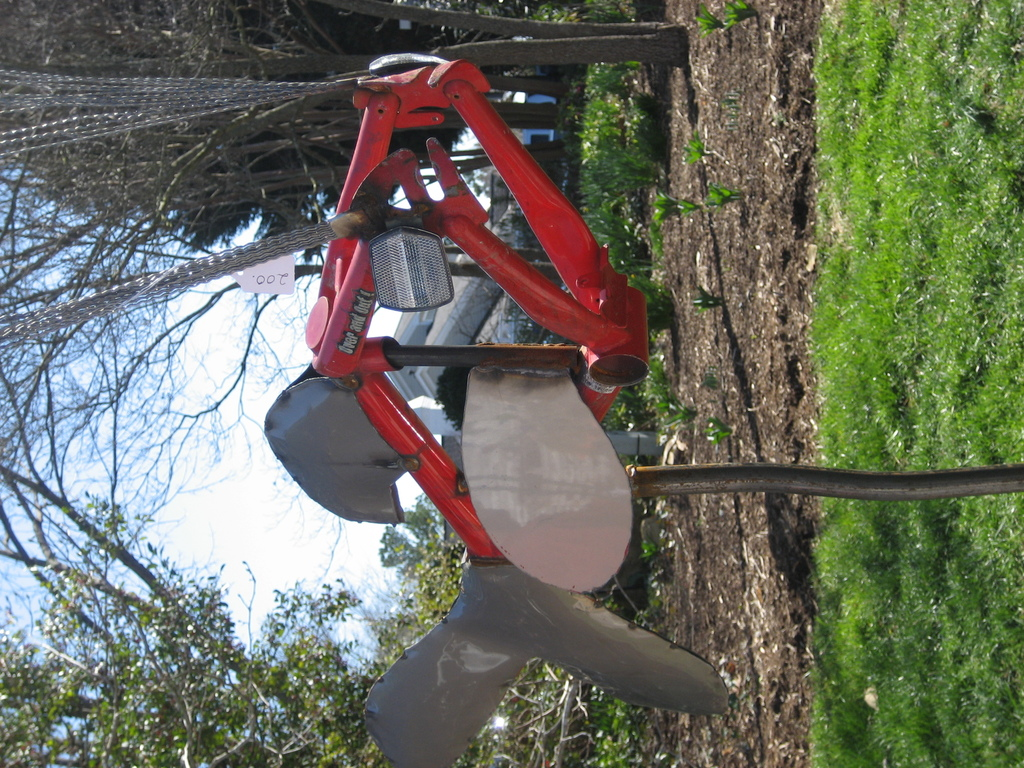Tree: (0, 0, 690, 768)
